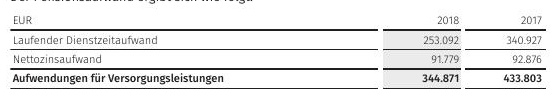table: (0, 0, 558, 104)
